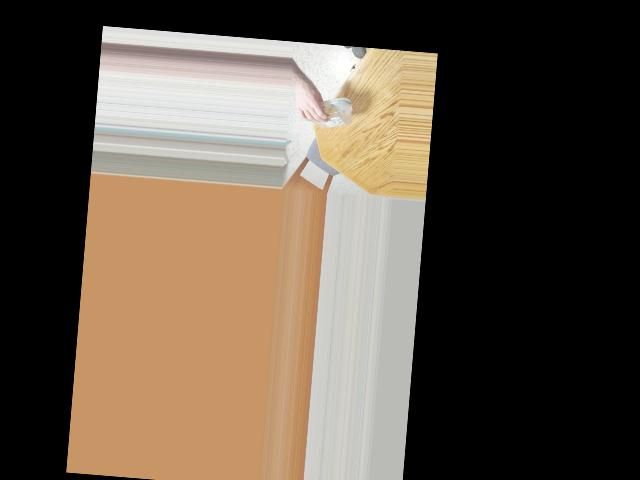cheese: (298, 90, 345, 130)
